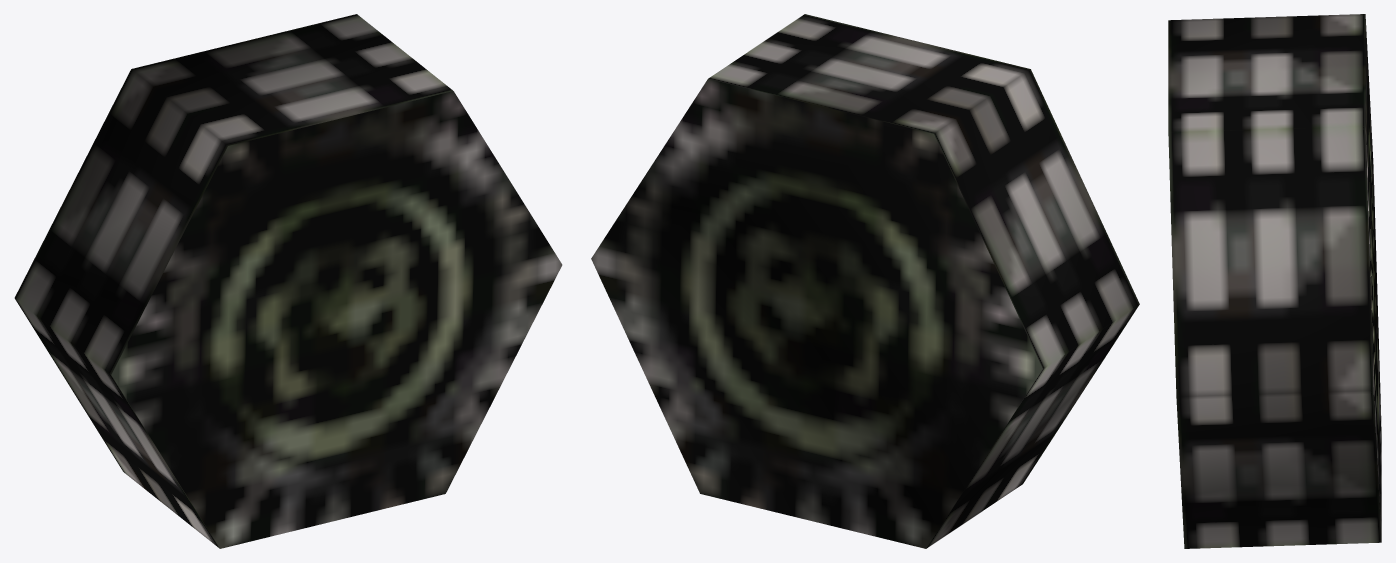
Rendered from China - Armor - Troop Crawler - Damage State 2 - NVTCrawler_D2.glb.
3 renders of one model, left to right at view 1: azimuth 30°, elevation 25°; view 2: azimuth 150°, elevation 25°; view 3: azimuth 270°, elevation 25°, orthographic.
Visible parts, largest first — view 1: NVTCRAWLER_D2; view 2: NVTCRAWLER_D2; view 3: NVTCRAWLER_D2.
Boxes of the visible parts, left/top/right/bottom form: NVTCRAWLER_D2: left=14, top=14, right=562, bottom=548; NVTCRAWLER_D2: left=591, top=14, right=1139, bottom=548; NVTCRAWLER_D2: left=1168, top=14, right=1381, bottom=548.
Size of the model in its own units: 7.2 by 6.32 by 2.89.
1 material, 1 textured.
